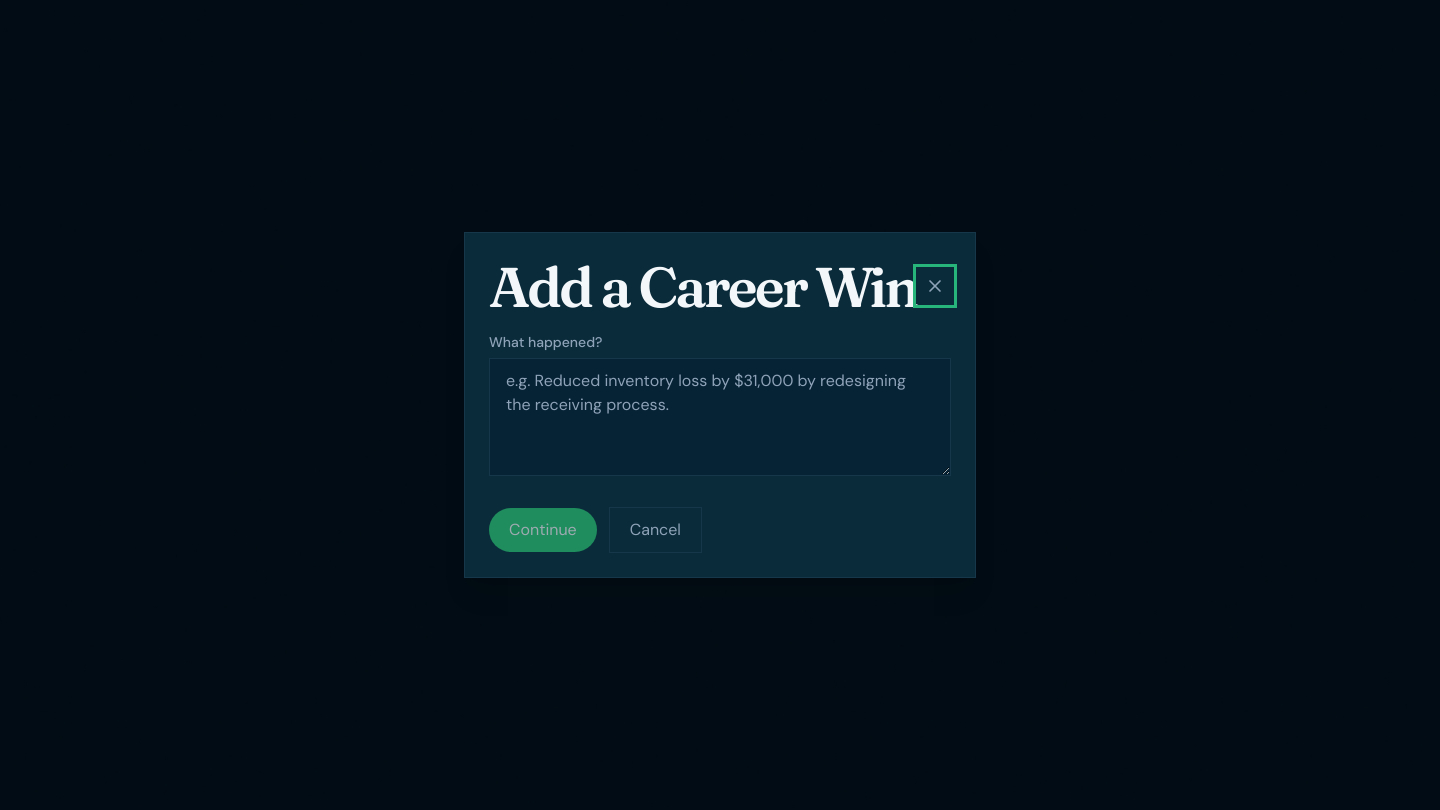
Test case: AddCareerWinModal › disables Continue until a statement is entered
Expected: the button "Continue" is disabled, [489,508,597,552]
Replace the text in the text box labelled "What happened?" with "Reduced inventory loss by $31,000.". click: (720, 417)
box: [489,358,951,476]
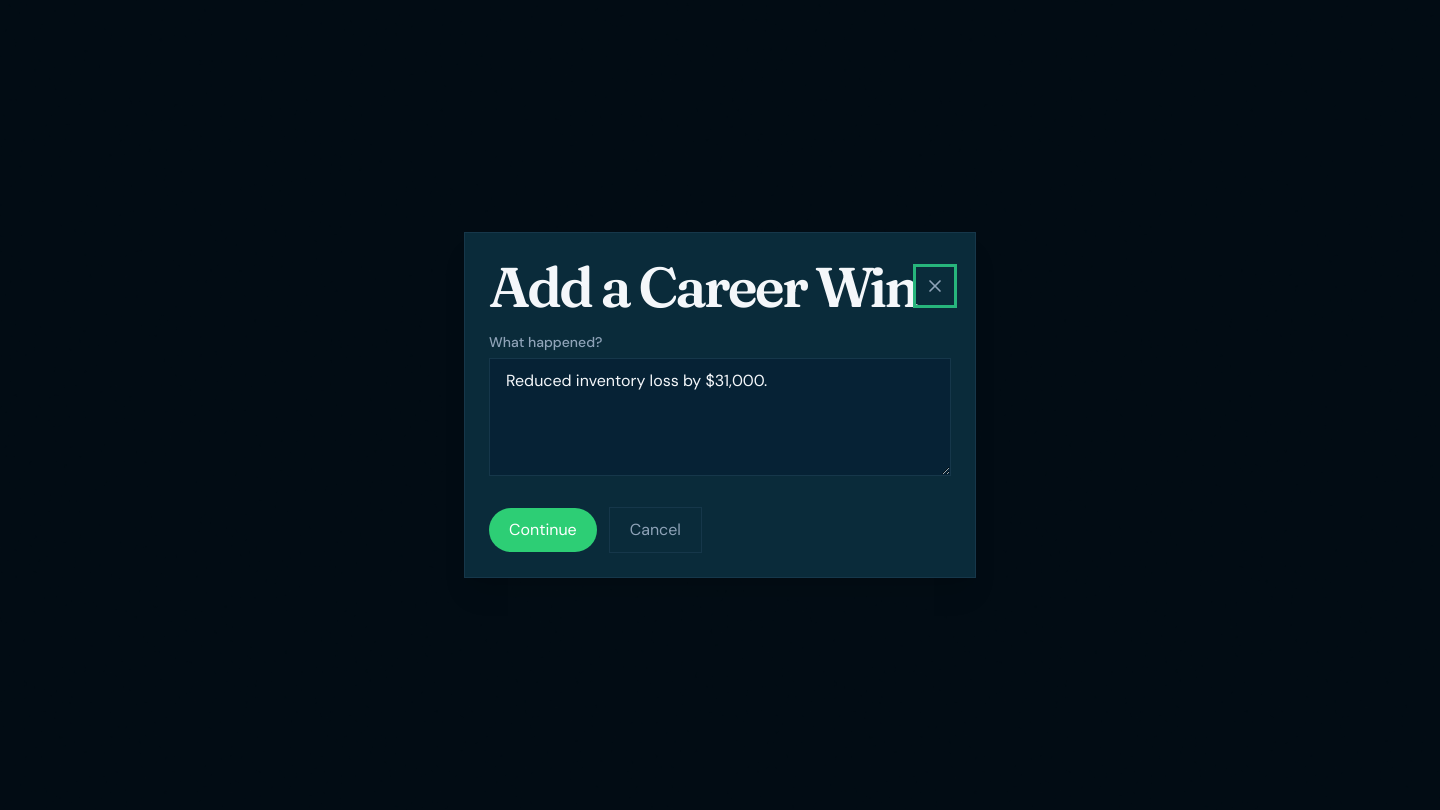
Now the button "Continue" is enabled, box [489,508,597,552]
